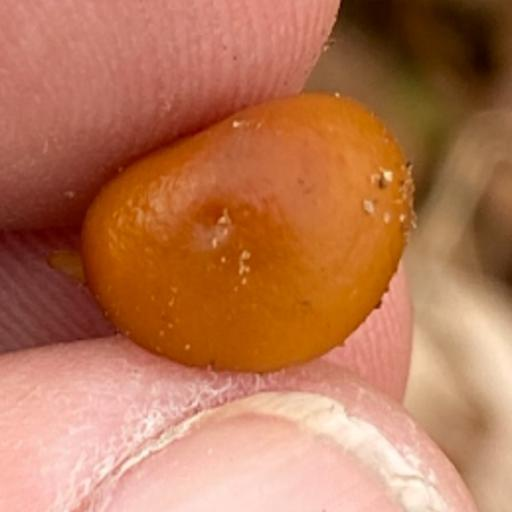mushroom: (48, 48, 471, 440)
